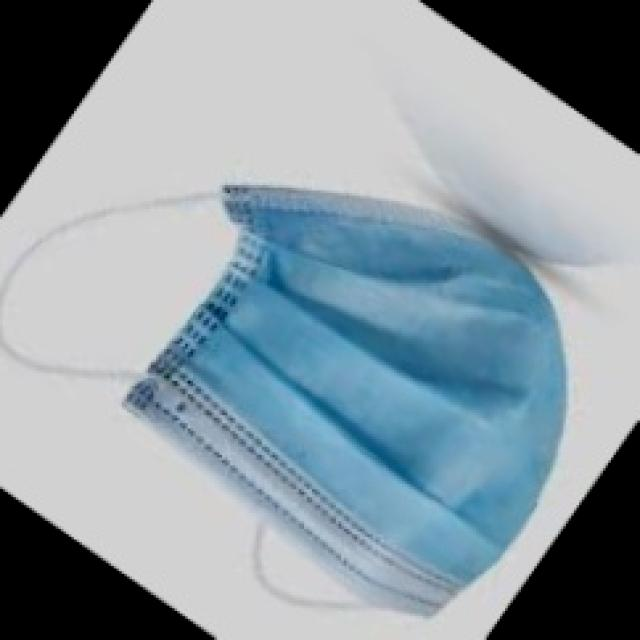B3: (0, 185, 566, 614)
